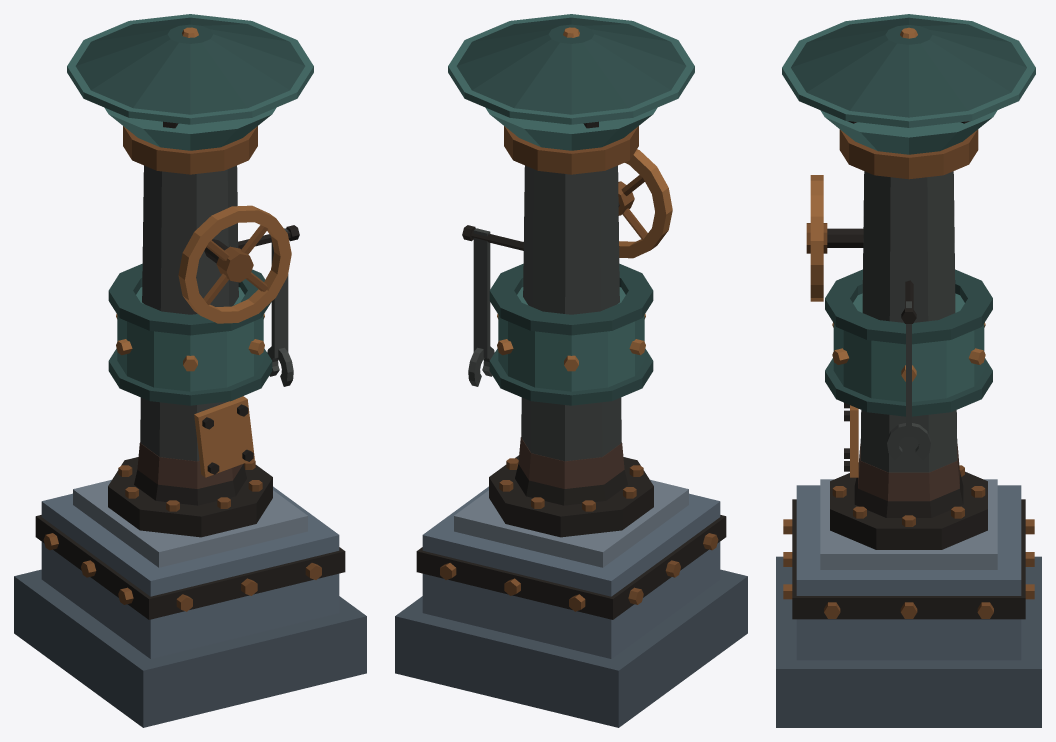
The model's file is mend_ward_post.glb.
3 renders of one model, left to right at view 1: azimuth 30°, elevation 25°; view 2: azimuth 150°, elevation 25°; view 3: azimuth 270°, elevation 25°, orthographic. The views are drawn at different scales.
Parts seen in each view (by area): view 1: MendWardPost; view 2: MendWardPost; view 3: MendWardPost.
Boxes of the visible parts, x1,y1,x2,y2 form: MendWardPost: (14, 14, 366, 727); MendWardPost: (395, 14, 747, 727); MendWardPost: (776, 14, 1041, 727).
Bounding box in the file's own units: 0.9 × 2.39 × 0.9.
